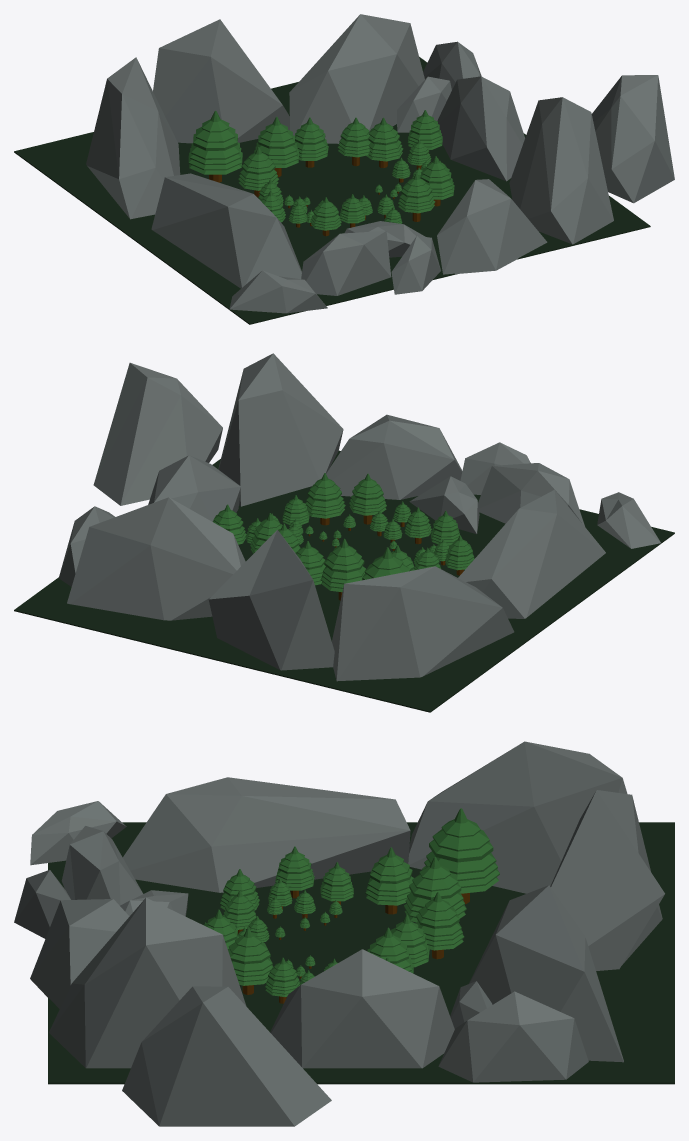
Rendered from Outsides.fbx.
3 renders of one model, top to bottom at view 1: azimuth 30°, elevation 25°; view 2: azimuth 150°, elevation 25°; view 3: azimuth 270°, elevation 25°, orthographic. The views are drawn at different scales.
Parts seen in each view (by area): view 1: Mountains, Forest, Trees; view 2: Mountains, Forest, Trees; view 3: Mountains, Forest, Trees.
Part boxes in pixels (x1=…): Mountains: x1=86, y1=14, x2=674, y2=313; Forest: x1=14, y1=57, x2=650, y2=324; Trees: x1=188, y1=110, x2=454, y2=236; Mountains: x1=59, y1=353, x2=660, y2=681; Forest: x1=14, y1=450, x2=674, y2=712; Trees: x1=212, y1=473, x2=474, y2=600; Mountains: x1=14, y1=741, x2=664, y2=1126; Forest: x1=48, y1=822, x2=674, y2=1084; Trees: x1=203, y1=808, x2=499, y2=1003.
Size of the model in its own units: 457 by 111 by 417.
